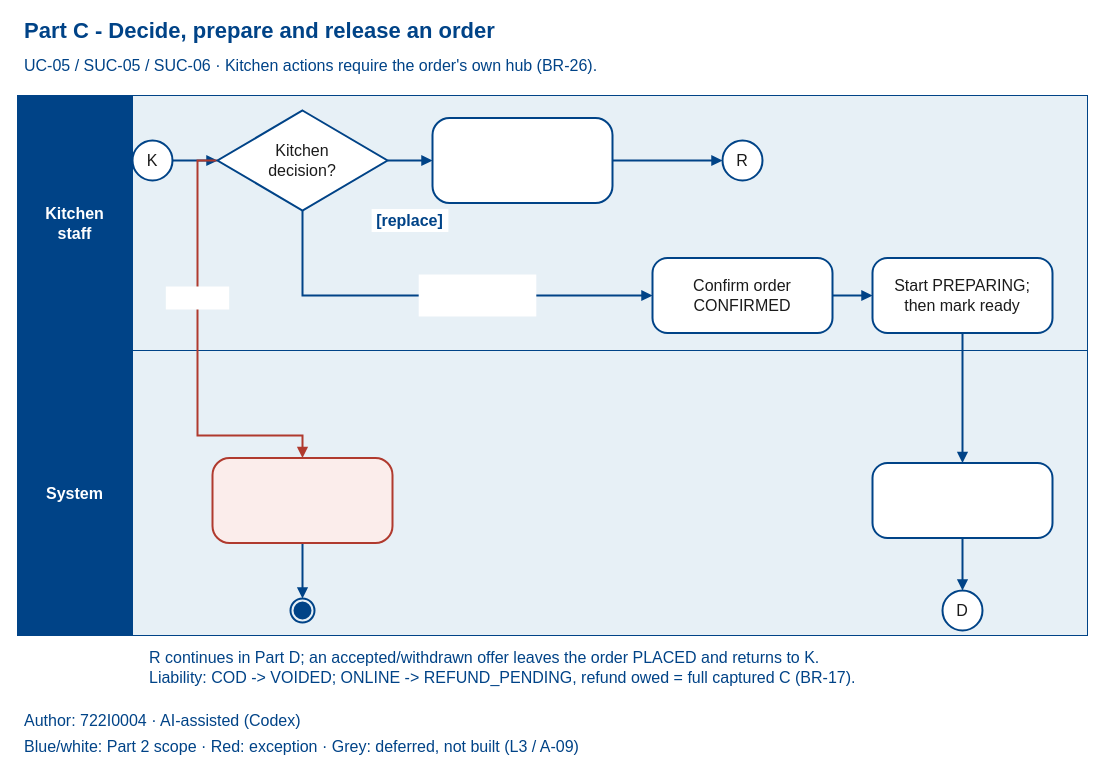
The diagram is 1105 pixels wide and 773 high, and some of its shapes have lost their labels. The centre of each missing label's shape, as x and y in pixels:
"[confirm; no open offer]" belongs at (x=477, y=295).
"[reject]" belongs at (x=197, y=297).
"Create one OFFERED replacement for an unavailable line" belongs at (x=522, y=160).
"Order READY; create Delivery AWAITING_PICKUP" belongs at (x=962, y=500).
"REJECTED + reason; withdraw open offer; settle liability" belongs at (x=302, y=500).
